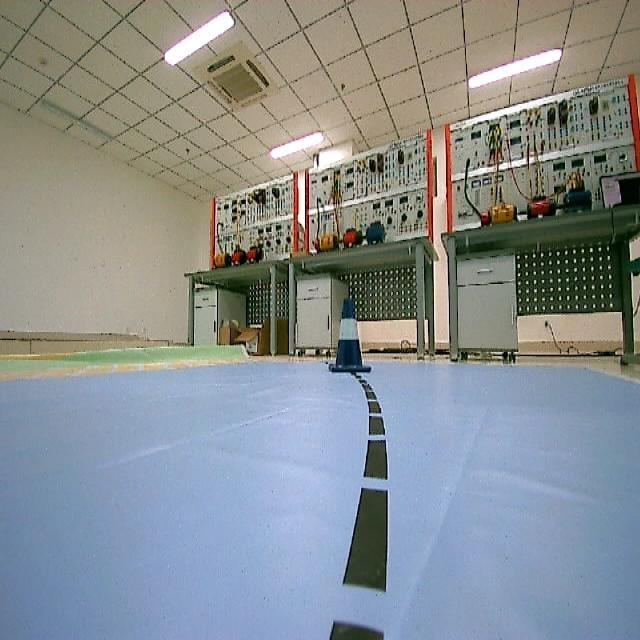obstacle: (322, 301, 372, 377)
